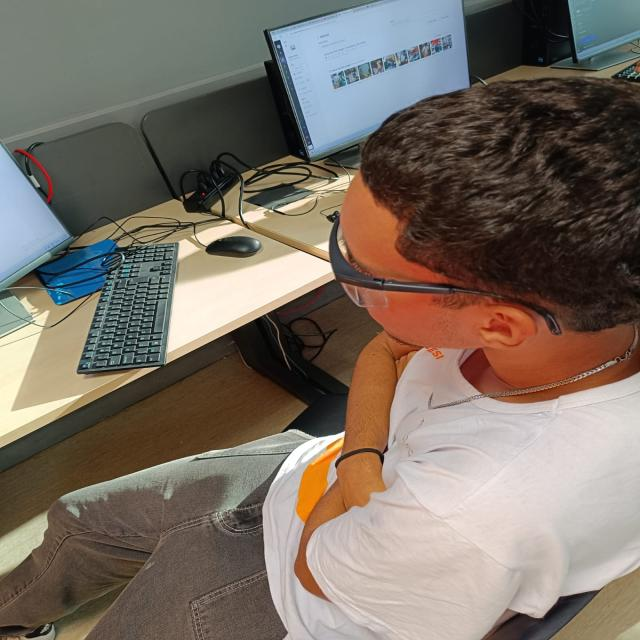oculos-epi: (329, 219, 562, 337)
